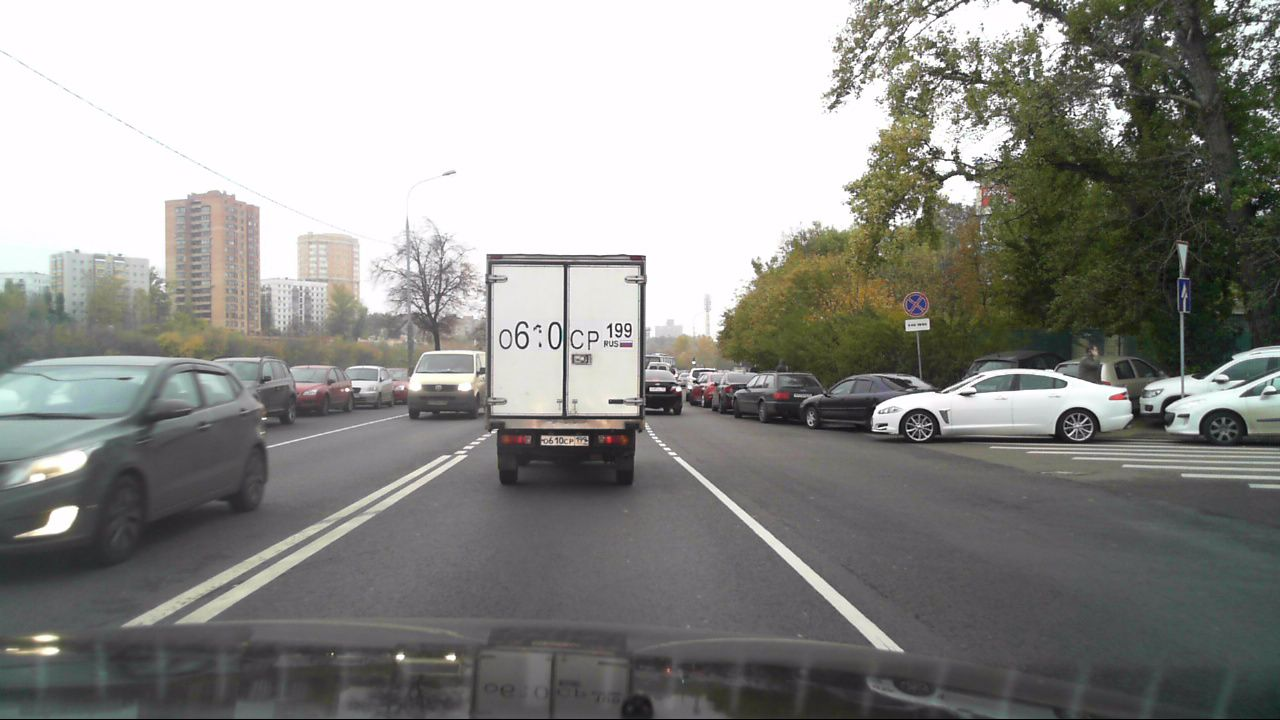No Parking: (902, 291, 928, 316)
